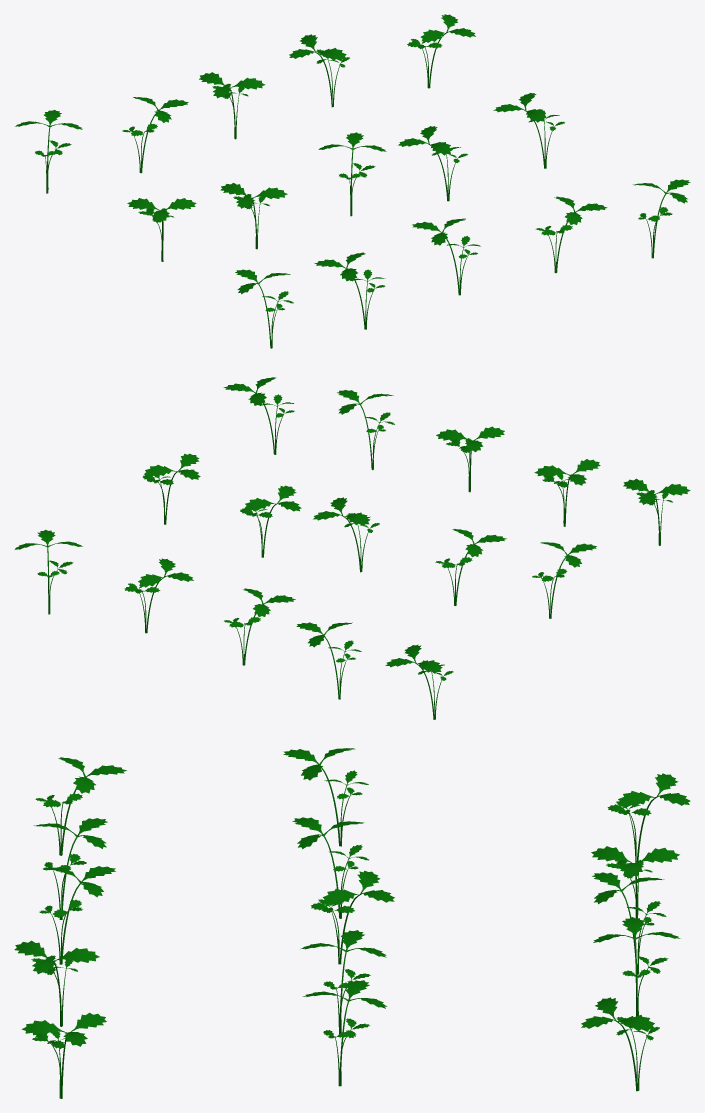
Rendered from Strawberry_lvl2.fbx.
3 views of the same model, one above another, from view 1: azimuth 30°, elevation 25°; view 2: azimuth 150°, elevation 25°; view 3: azimuth 270°, elevation 25° (orthographic). The views are drawn at different scales.
Parts seen in each view (by area): view 1: Strawberry_lvl2_LOD0; view 2: Strawberry_lvl2_LOD0; view 3: Strawberry_lvl2_LOD0.
Part boxes in pixels (x1,y1,x2,y2): Strawberry_lvl2_LOD0: (15,14,690,348); Strawberry_lvl2_LOD0: (15,377,690,719); Strawberry_lvl2_LOD0: (14,748,690,1098).
Size of what is drawn, in the model's own units: 98.24 by 98.53 by 17.47.
